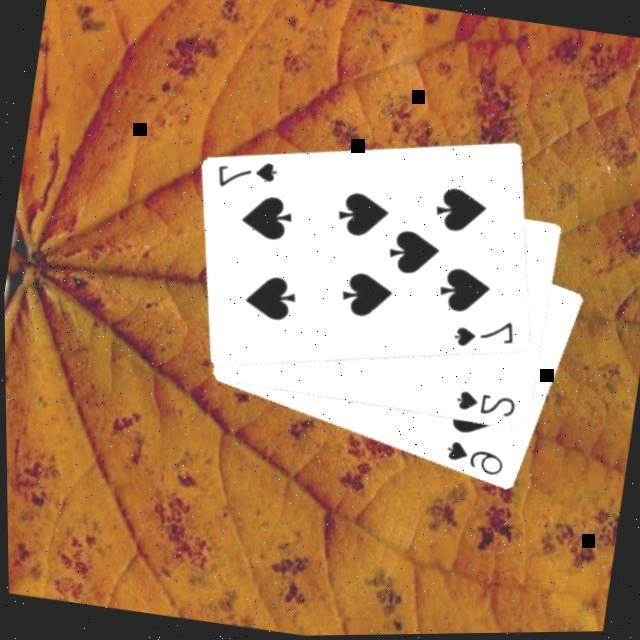2S: (452, 389, 521, 426)
7S: (212, 152, 284, 202), (449, 313, 522, 361)
9S: (440, 438, 510, 484)
